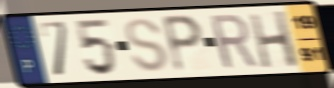5: (71, 17, 121, 78)
7: (37, 19, 69, 78)
H: (246, 9, 301, 70)
P: (160, 13, 206, 75)
R: (207, 11, 261, 72)
S: (122, 16, 170, 74)
